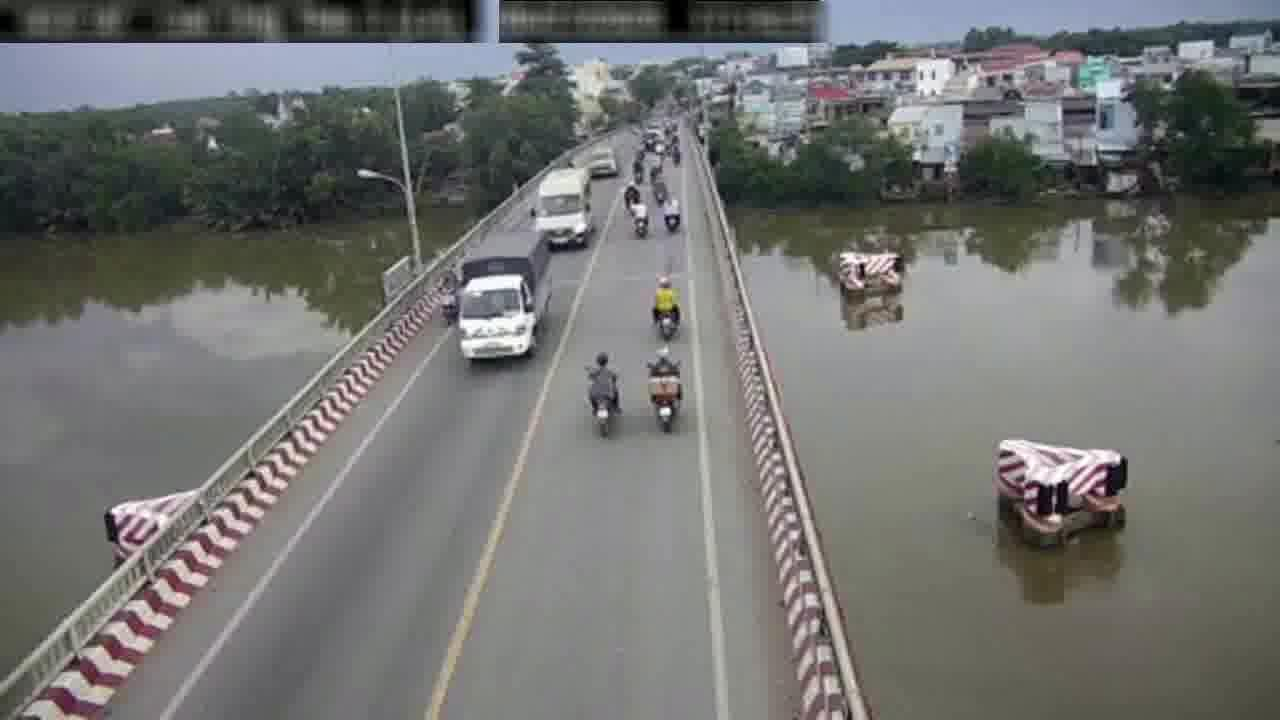14: (535, 161, 595, 247)
8: (450, 222, 553, 372)
motorbike: (646, 340, 684, 432), (583, 342, 618, 438), (650, 270, 678, 343), (659, 184, 681, 232), (629, 191, 647, 240)
